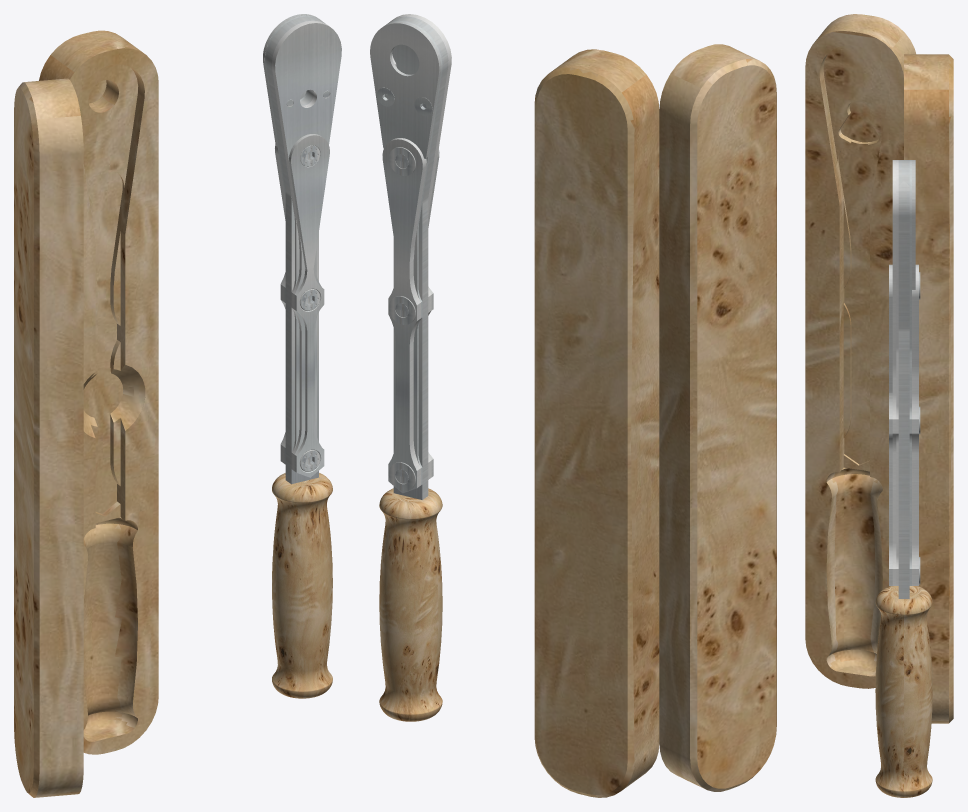
The model's file is Ratchet.gltf.
The picture shows the model from 3 angles, left to right: view 1: azimuth 30°, elevation 25°; view 2: azimuth 150°, elevation 25°; view 3: azimuth 270°, elevation 25°; orthographic projection. The views are drawn at different scales.
Visible parts, largest first — view 1: Case Bottom, Case Top, Handle Top, Top Plate 2.001, Top Plate 3.001, Center.001, Top plate 1.001, Handle Bottom; view 2: Case Bottom, Case Top, Handle Bottom, Bottom Plate 2.001, Cover Plate.001, Center.001, Bottom Plate 1.001, Top Plate 2.001, Handle Top; view 3: Case Top, Case Bottom, Handle Bottom, Handle Top, Center.001, Bottom Plate 2.001, Top Plate 2.001, Top Plate 3.001, Bottom Plate 1.001, Top plate 1.001, Cover Plate.001.
Part boxes in pixels (x1,y1,x2,y2): Case Bottom: (39, 30, 158, 754); Case Top: (14, 78, 83, 797); Handle Top: (276, 474, 332, 698); Top Plate 2.001: (273, 21, 341, 470); Top Plate 3.001: (289, 134, 329, 477); Center.001: (266, 16, 325, 484); Top plate 1.001: (272, 20, 326, 469); Handle Bottom: (272, 473, 323, 690); Case Bottom: (534, 49, 659, 797); Case Top: (659, 44, 776, 791); Handle Bottom: (379, 490, 438, 721); Bottom Plate 2.001: (382, 138, 426, 493); Cover Plate.001: (370, 21, 441, 158); Center.001: (387, 16, 448, 499); Bottom Plate 1.001: (386, 21, 442, 484); Top Plate 2.001: (392, 14, 451, 478); Handle Top: (389, 488, 442, 712); Case Top: (805, 14, 915, 688); Case Bottom: (904, 54, 953, 723); Handle Bottom: (904, 586, 932, 797); Handle Top: (875, 586, 903, 797); Center.001: (898, 160, 909, 598); Bottom Plate 2.001: (912, 264, 918, 585); Top Plate 2.001: (892, 160, 896, 585); Top Plate 3.001: (889, 264, 892, 585); Bottom Plate 1.001: (909, 160, 911, 585); Top plate 1.001: (896, 160, 898, 585); Cover Plate.001: (912, 160, 915, 289).
Size of the model in its own units: 0.1623 by 0.3158 by 0.0647.
Materials: 19 (19 with a texture image).
